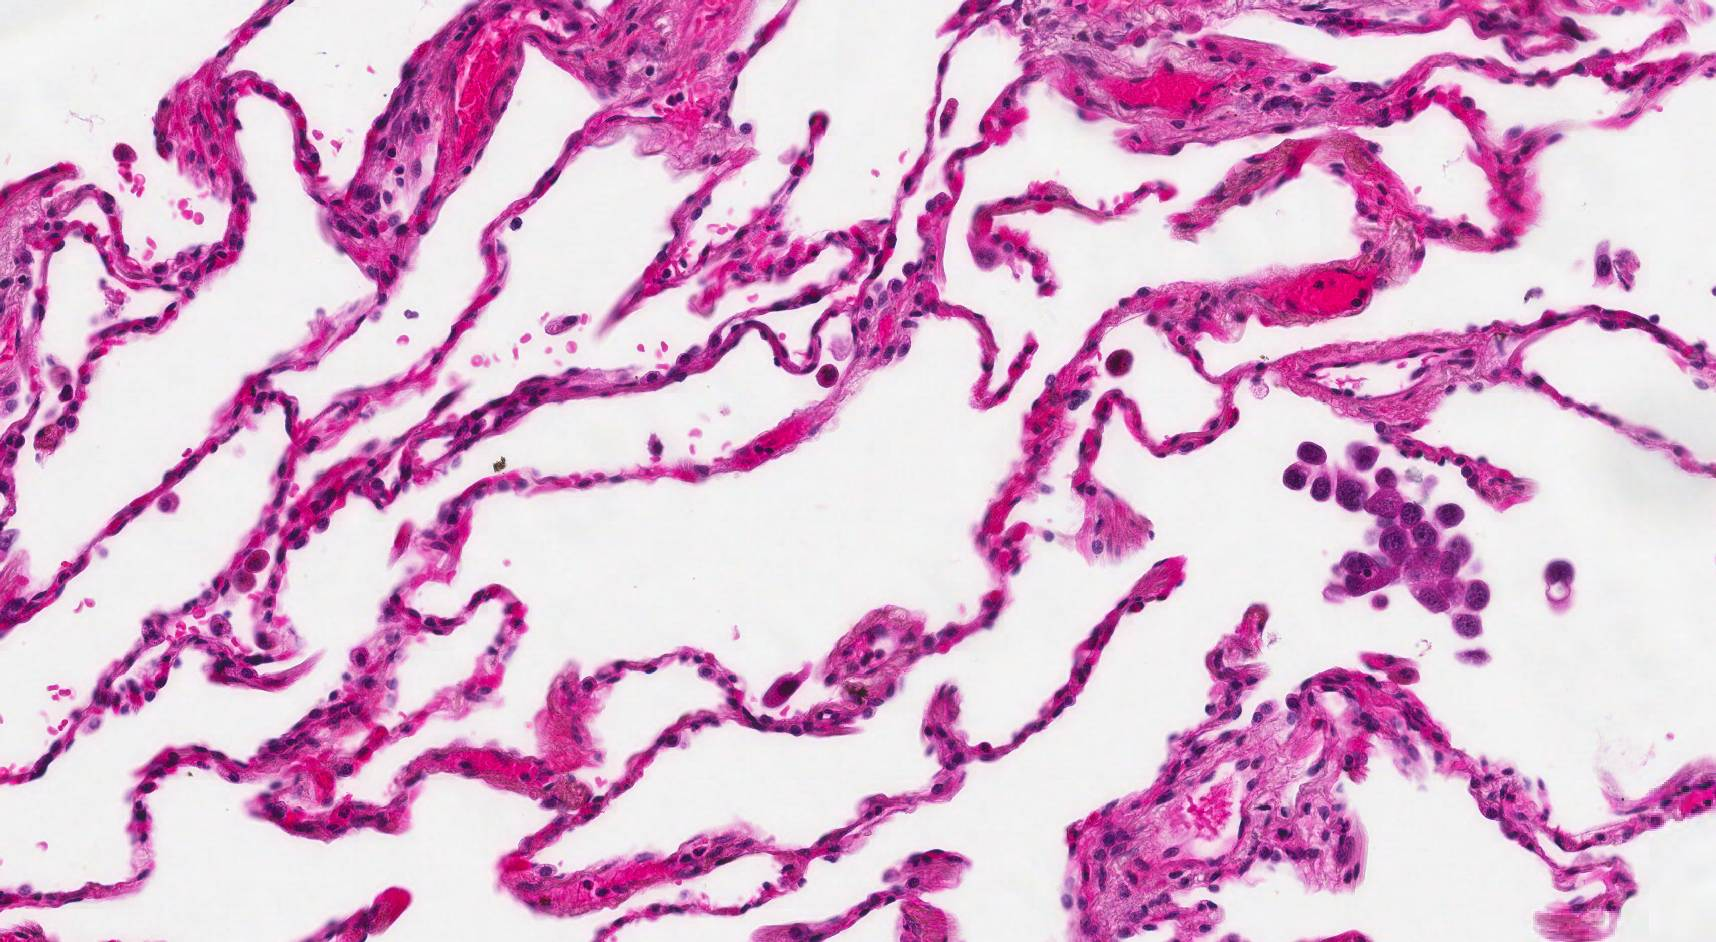stas: (1283, 435, 1489, 641)
